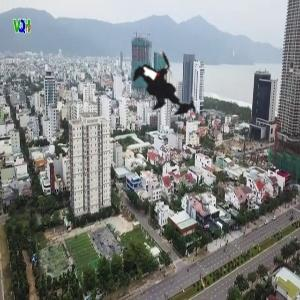drone: (114, 31, 225, 142)
